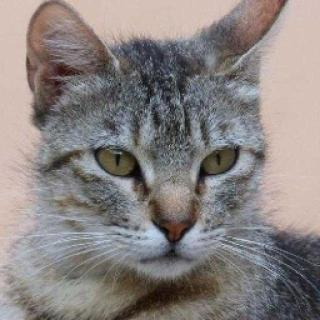cat: (27, 3, 281, 283)
nose: (146, 185, 202, 250)
